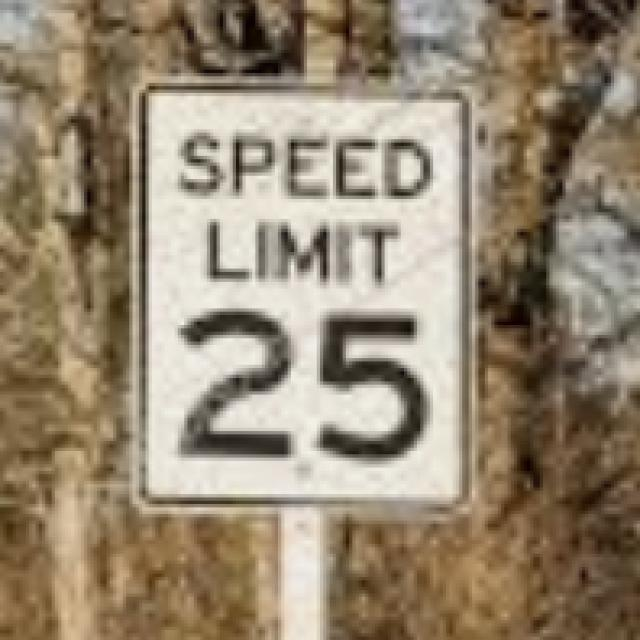speedLimit25: (142, 74, 475, 509)
